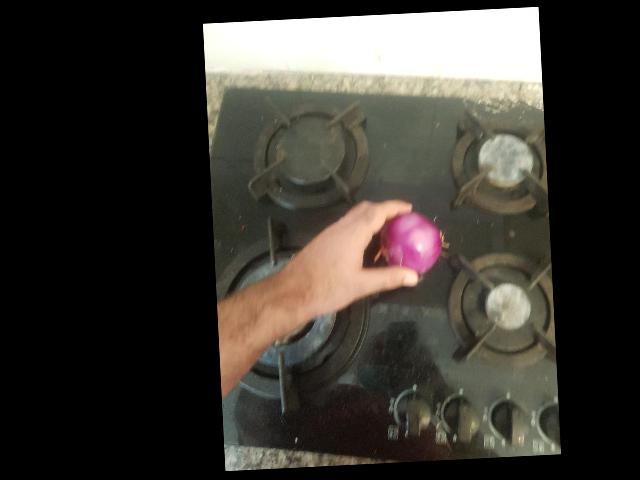onion: (371, 210, 441, 281)
